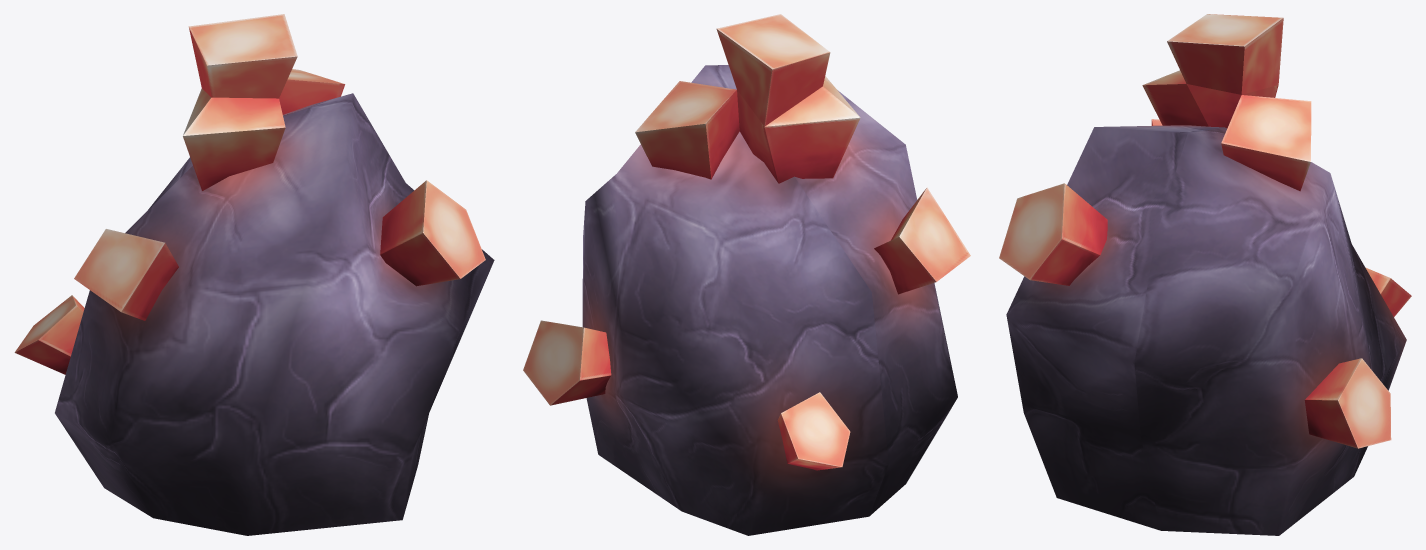
Rendered from ore_medium_meteore.fbx.
3 views of the same model, side by side, from view 1: azimuth 30°, elevation 25°; view 2: azimuth 150°, elevation 25°; view 3: azimuth 270°, elevation 25° (orthographic).
Parts seen in each view (by area): view 1: ore_medium_meteore:Mesh; view 2: ore_medium_meteore:Mesh; view 3: ore_medium_meteore:Mesh.
Boxes of the visible parts, x1,y1,x2,y2 form: ore_medium_meteore:Mesh: (14,14,494,535); ore_medium_meteore:Mesh: (523,14,970,535); ore_medium_meteore:Mesh: (999,14,1411,535).
Bounding box in the file's own units: 3.89 × 4.44 × 3.78.
